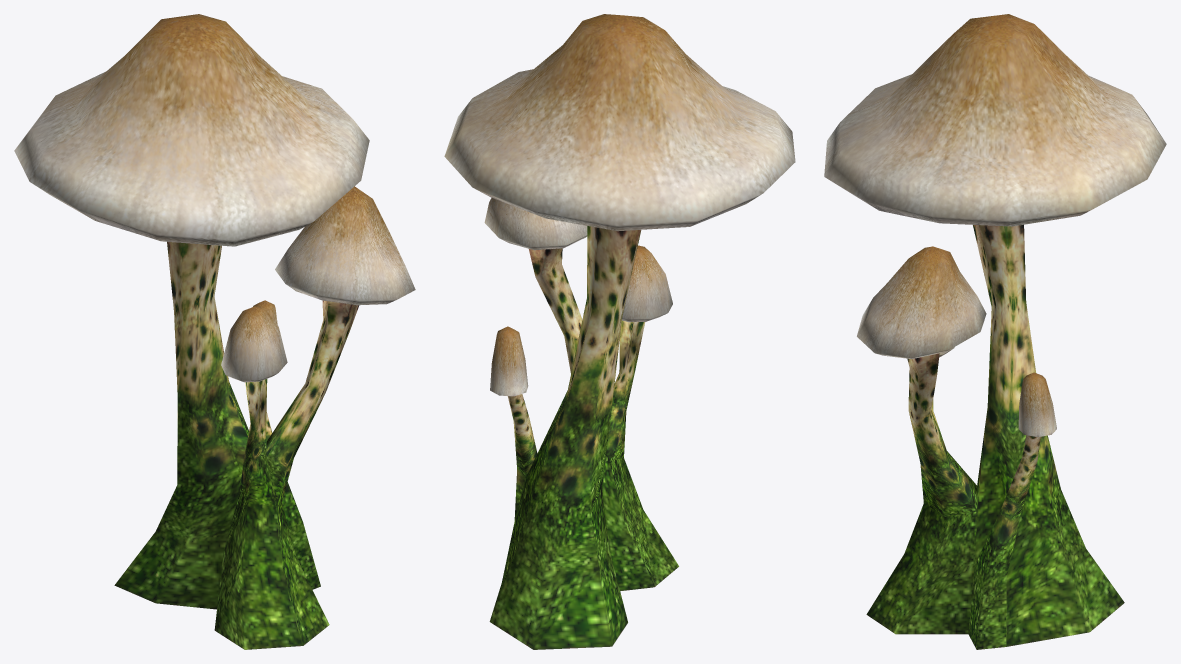
Rendered from fo_s3_champignou_a.glb.
The picture shows the model from 3 angles, left to right: view 1: azimuth 30°, elevation 25°; view 2: azimuth 150°, elevation 25°; view 3: azimuth 270°, elevation 25°; orthographic projection. The views are drawn at different scales.
Visible parts, largest first — view 1: Fo_S3_champignou_A; view 2: Fo_S3_champignou_A; view 3: Fo_S3_champignou_A.
Boxes of the visible parts, bbox=[...] form: Fo_S3_champignou_A: bbox=[14, 14, 415, 649]; Fo_S3_champignou_A: bbox=[444, 14, 795, 649]; Fo_S3_champignou_A: bbox=[824, 14, 1166, 649].
Bounding box in the file's own units: 1.9 × 3.3 × 1.78.
Materials: 3 (3 with a texture image).
